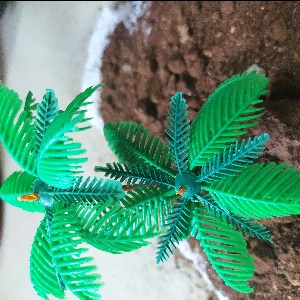plant: (5, 65, 261, 293)
